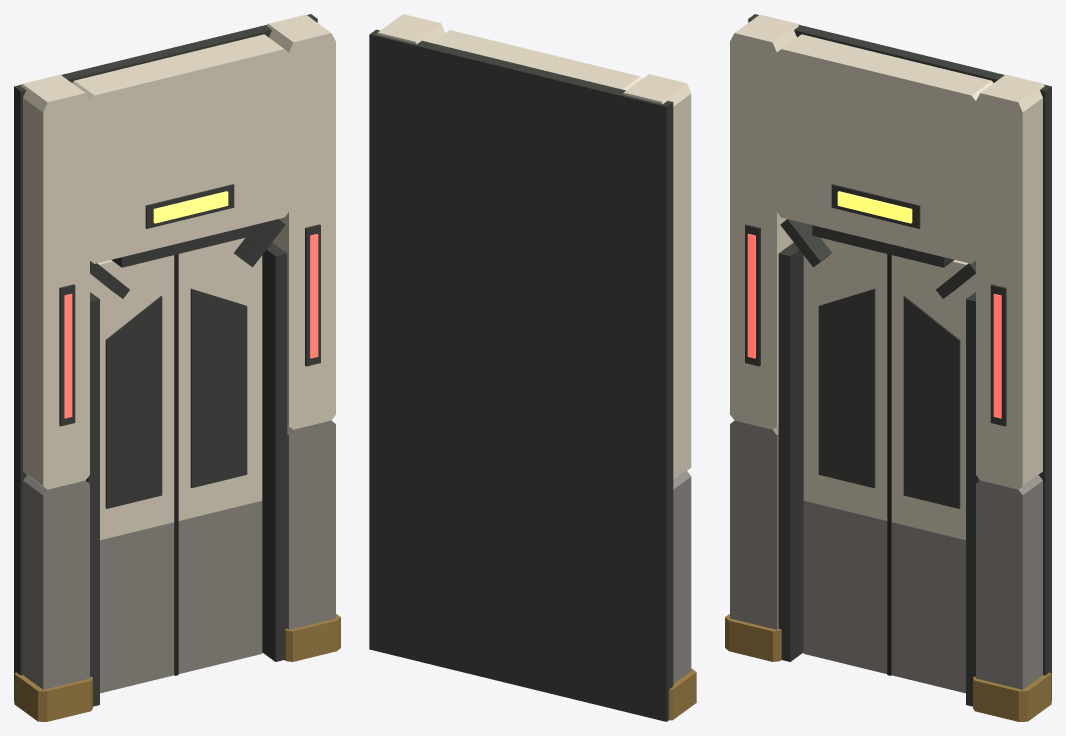
File: b2_door.glb
The picture shows the model from 3 angles, left to right: view 1: azimuth 30°, elevation 25°; view 2: azimuth 150°, elevation 25°; view 3: azimuth 330°, elevation 25°; orthographic projection.
Parts seen in each view (by area): view 1: b2_door; view 2: b2_door; view 3: b2_door.
Boxes of the visible parts, x1=… form: b2_door: x1=14, y1=14, x2=340, y2=721; b2_door: x1=369, y1=14, x2=696, y2=721; b2_door: x1=725, y1=14, x2=1051, y2=721.
Size of the model in its own units: 2.07 by 4.03 by 0.35.
